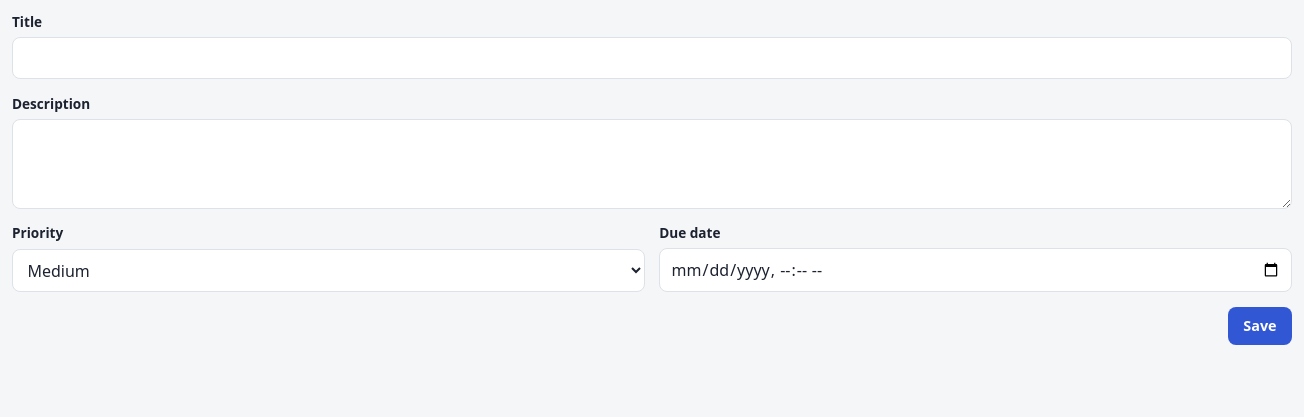
Test: TaskForm › shows a generic message when the request fails without a server answer
Click the button "Save".
click(1260, 326)  # box top-left (1228, 307), bottom-right (1292, 345)
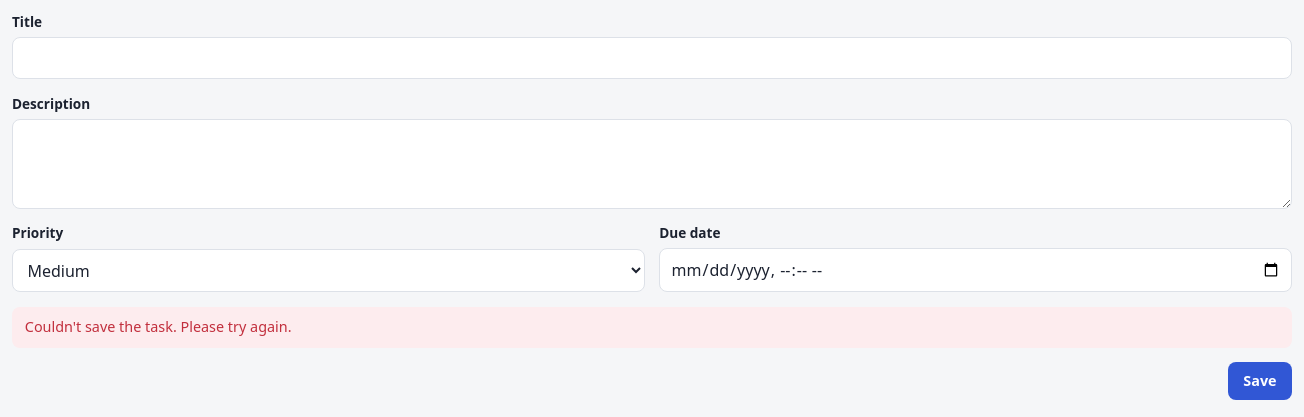
Expected: the message reads "Couldn't save the task. Please try again.", top-left (25, 317), bottom-right (292, 336)
